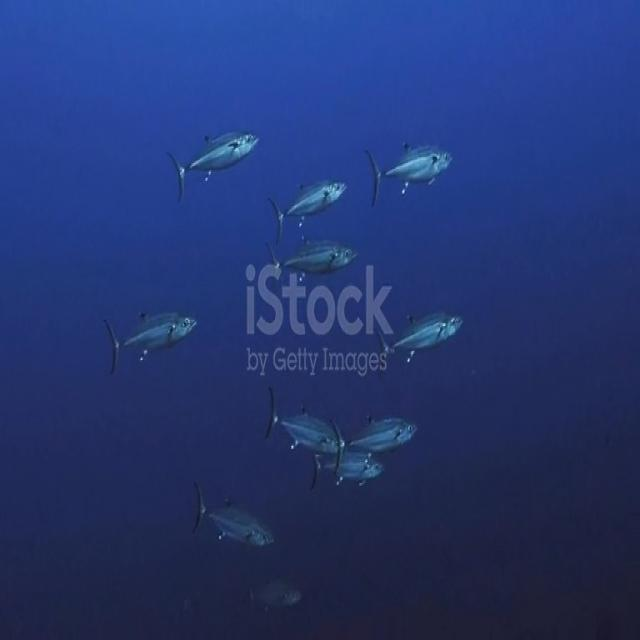fish: (99, 300, 220, 374), (167, 125, 262, 205), (369, 298, 462, 373), (364, 134, 458, 204), (190, 489, 288, 554), (270, 167, 353, 231), (258, 395, 346, 451), (330, 406, 420, 458), (263, 240, 367, 274), (311, 449, 388, 488)
